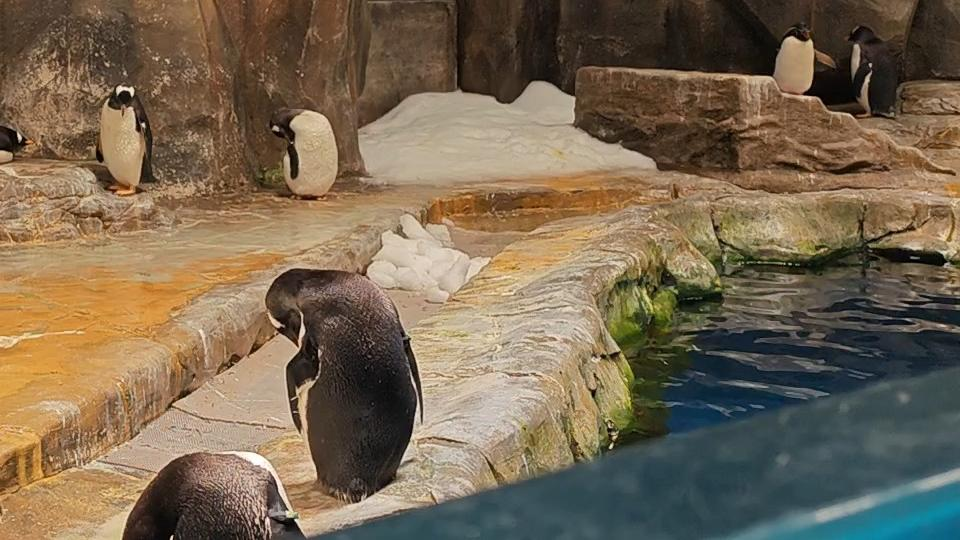Southern Rockhopper Penguin: (761, 19, 839, 101)
